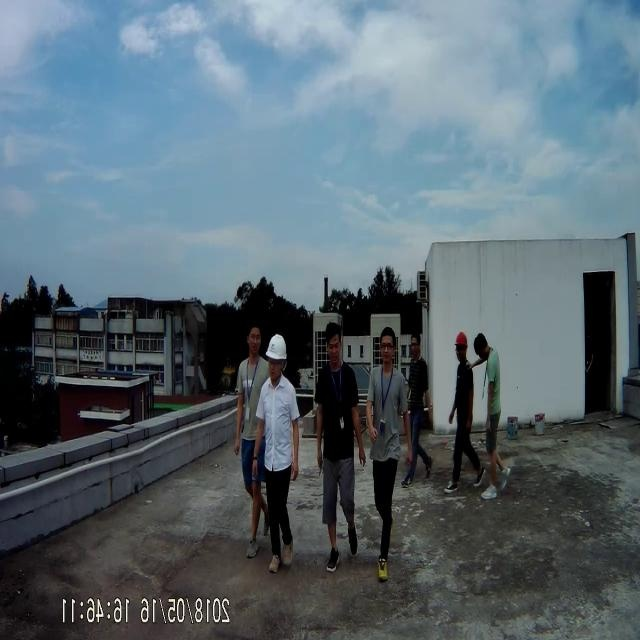Con_Casco: (266, 334, 288, 379)
Sin_Casco_Mascarrilla: (324, 320, 344, 367), (379, 327, 396, 369)
Sin_Chaleco: (316, 365, 358, 466), (256, 379, 297, 477), (369, 366, 407, 459)
